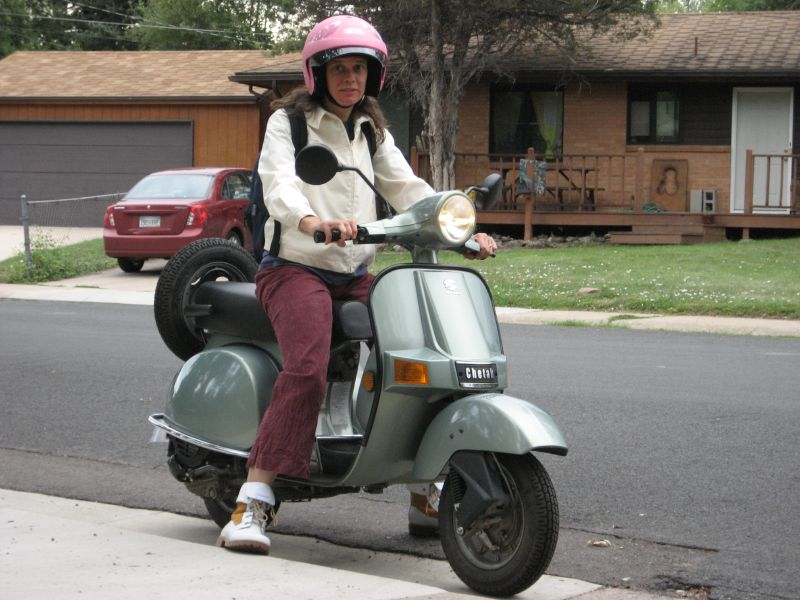helmet: (297, 11, 392, 99)
